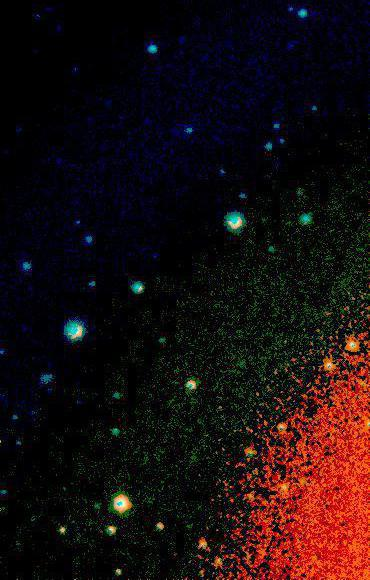star: (47, 515, 77, 545)
